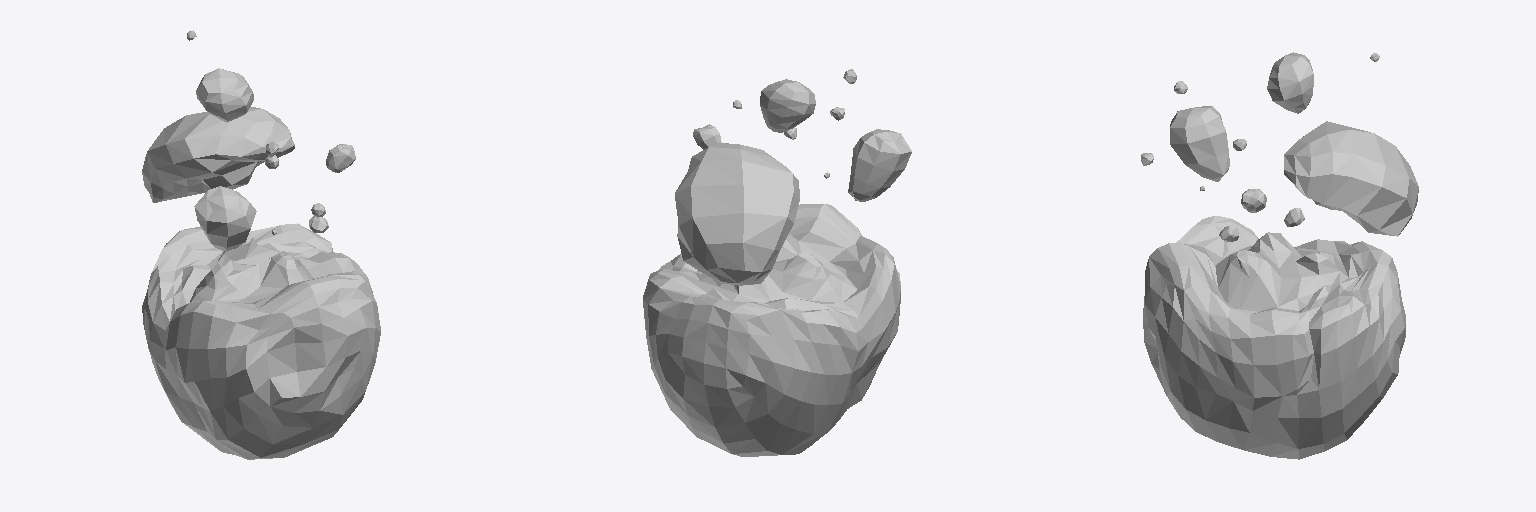
Rendered from broken_asteroid_01.obj.
3 views of the same model, side by side, from view 1: azimuth 30°, elevation 25°; view 2: azimuth 150°, elevation 25°; view 3: azimuth 270°, elevation 25° (orthographic).
Parts seen in each view (by area): view 1: broken_asteroid_broken_asteroid_mesh; view 2: broken_asteroid_broken_asteroid_mesh; view 3: broken_asteroid_broken_asteroid_mesh.
Part boxes in pixels (x1,y1,x2,y2): broken_asteroid_broken_asteroid_mesh: (142, 30, 380, 459); broken_asteroid_broken_asteroid_mesh: (643, 69, 911, 456); broken_asteroid_broken_asteroid_mesh: (1141, 52, 1418, 459).
Bounding box in the file's own units: 3.01 × 5.41 × 3.5.